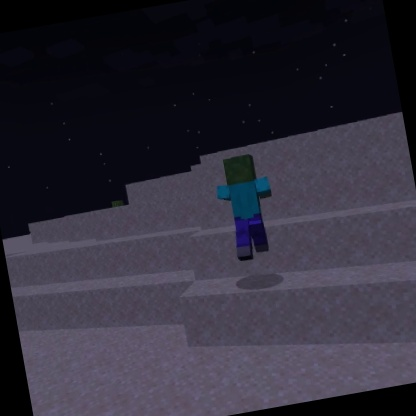zombie: (205, 147, 287, 267)
